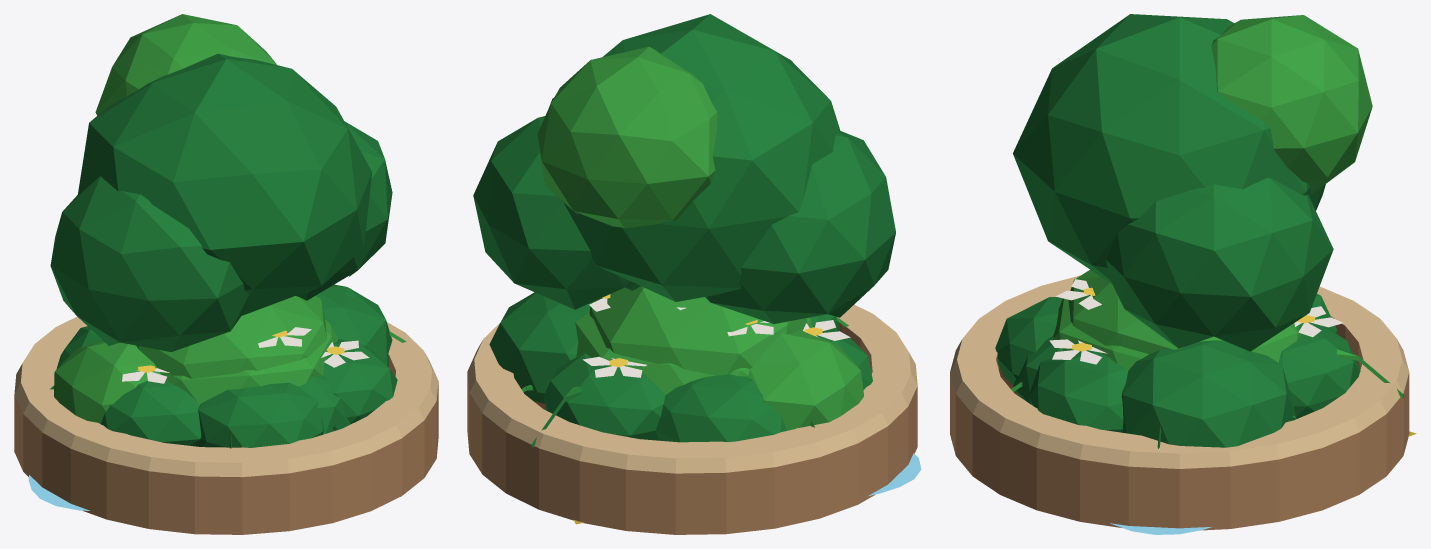
Rendered from GrassKit.fbx.
3 renders of one model, left to right at view 1: azimuth 30°, elevation 25°; view 2: azimuth 150°, elevation 25°; view 3: azimuth 270°, elevation 25°, orthographic. The views are drawn at different scales.
Visible parts, largest first — view 1: Grass_Tree, Grass_Planter, Grass_Bush, Grass_Pond; view 2: Grass_Tree, Grass_Planter, Grass_Bush, Grass_Pond; view 3: Grass_Tree, Grass_Planter, Grass_Bush, Grass_Pond.
Boxes of the visible parts, x1,y1,x2,y2 form: Grass_Tree: [50, 14, 392, 351]; Grass_Planter: [14, 316, 438, 534]; Grass_Bush: [54, 284, 392, 434]; Grass_Pond: [28, 475, 89, 510]; Grass_Tree: [473, 14, 895, 323]; Grass_Planter: [467, 294, 917, 534]; Grass_Bush: [489, 286, 863, 430]; Grass_Pond: [868, 453, 921, 495]; Grass_Tree: [1013, 14, 1372, 351]; Grass_Planter: [950, 275, 1409, 530]; Grass_Bush: [1013, 269, 1296, 447]; Grass_Pond: [1110, 523, 1212, 534].
Size of the model in its own units: 2.14 by 2.02 by 2.03.
Materials: 2 (2 with a texture image).
